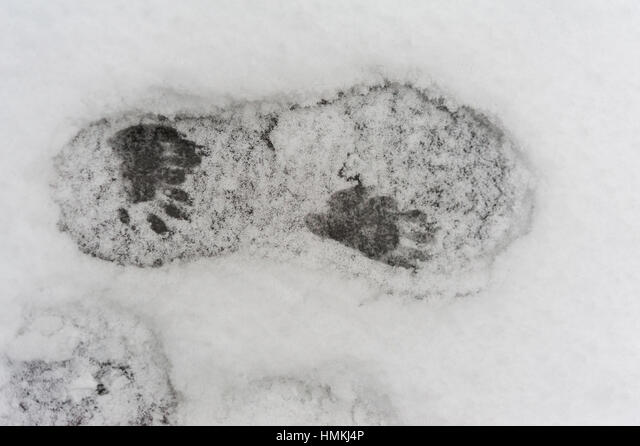raccoon: (105, 99, 213, 246), (314, 172, 434, 277)
